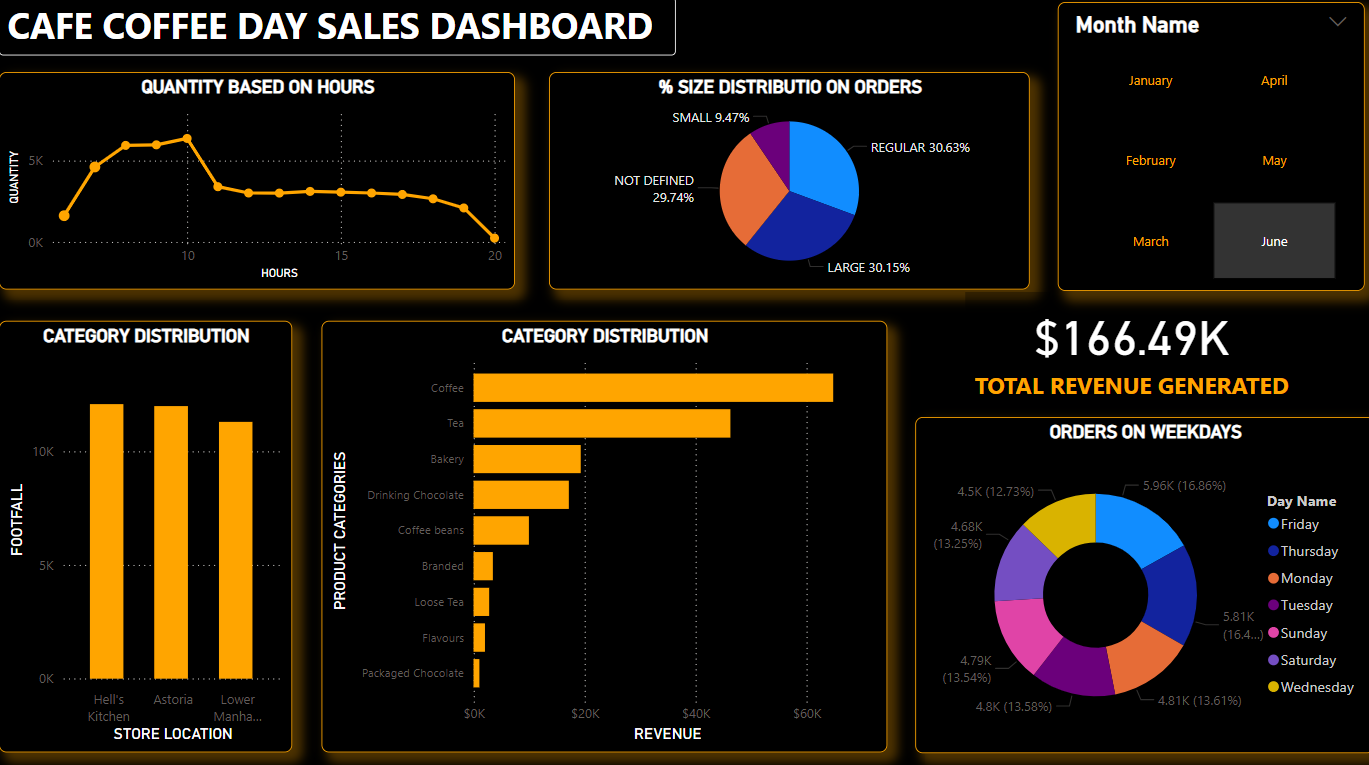

What the dashboard file says about the page in this screenshot:
{"tool":"powerbi","page":{"name":"Page 1","canvas":[1280,720],"ordinal":0},"visuals":[{"type":"textbox","title":"CAFE COFFEE DAY SALES DASHBOARD","box":[0,0,629.8,54.3],"z":0},{"type":"lineChart","title":"QUANTITY BASED ON HOURS","fields":{"Y":["Sum(Transactions.transaction_qty)"],"Category":["Transactions.Hour"]},"box":[0,70,480.2,202.7],"z":1000},{"type":"donutChart","title":"ORDERS ON WEEKDAYS","fields":{"Category":["Transactions.Day Name"],"Y":["CountNonNull(Transactions.transaction_qty)"]},"box":[851.7,390.9,427.1,312.5],"z":2000},{"type":"pieChart","title":"% SIZE DISTRIBUTIO ON ORDERS","fields":{"Category":["Transactions.SIZE"],"Y":["CountNonNull(Transactions.transaction_id)"]},"box":[511.5,70,447.6,202.7],"z":3000},{"type":"clusteredBarChart","title":"CATEGORY DISTRIBUTION","fields":{"Category":["Transactions.product_category"],"Y":["Sum(Transactions.TOTAL BILL)"]},"box":[300.4,301.6,526,401.7],"z":3001},{"type":"lineClusteredColumnComboChart","title":"CATEGORY DISTRIBUTION","fields":{"Category":["Transactions.store_location"],"Y":["CountNonNull(Transactions.transaction_id)"]},"box":[0,301.6,272.7,401.7],"z":3002},{"type":"card","title":"TOTAL REVENUE GENERATED","fields":{"Values":["Sum(Transactions.TOTAL BILL)"]},"box":[898.8,273.9,310.1,105],"z":3003},{"type":"slicer","fields":{"Values":["Transactions.Month Name"]},"box":[984.5,4.8,285.9,269],"z":3004}]}

Visuals, with their boxes in screenshot pixels (x1, y1, x2, y2), scaled from the page's 1280x720 canvas onto the 1369x765 screenshot:
"CAFE COFFEE DAY SALES DASHBOARD" textbox: [left=0, top=0, right=674, bottom=58]
"QUANTITY BASED ON HOURS" lineChart: [left=0, top=74, right=514, bottom=290]
"ORDERS ON WEEKDAYS" donutChart: [left=911, top=415, right=1368, bottom=747]
"% SIZE DISTRIBUTIO ON ORDERS" pieChart: [left=547, top=74, right=1026, bottom=290]
"CATEGORY DISTRIBUTION" clusteredBarChart: [left=321, top=320, right=884, bottom=747]
"CATEGORY DISTRIBUTION" lineClusteredColumnComboChart: [left=0, top=320, right=292, bottom=747]
"TOTAL REVENUE GENERATED" card: [left=961, top=291, right=1293, bottom=403]
slicer - Transactions.Month Name: [left=1053, top=5, right=1359, bottom=291]
